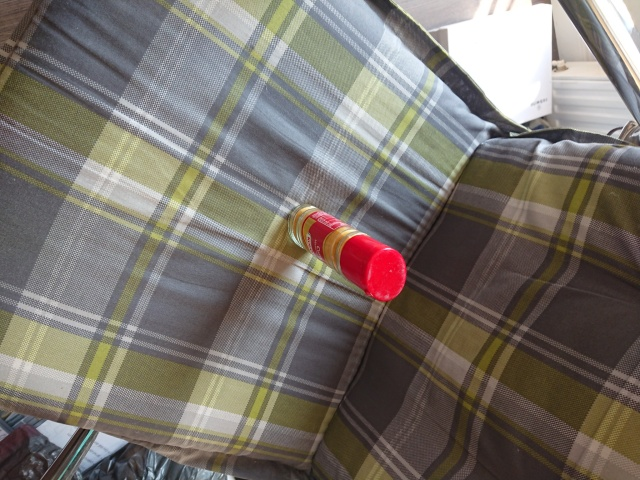Kotanyi Curry Spices Mix 70g: (285, 201, 409, 304)
